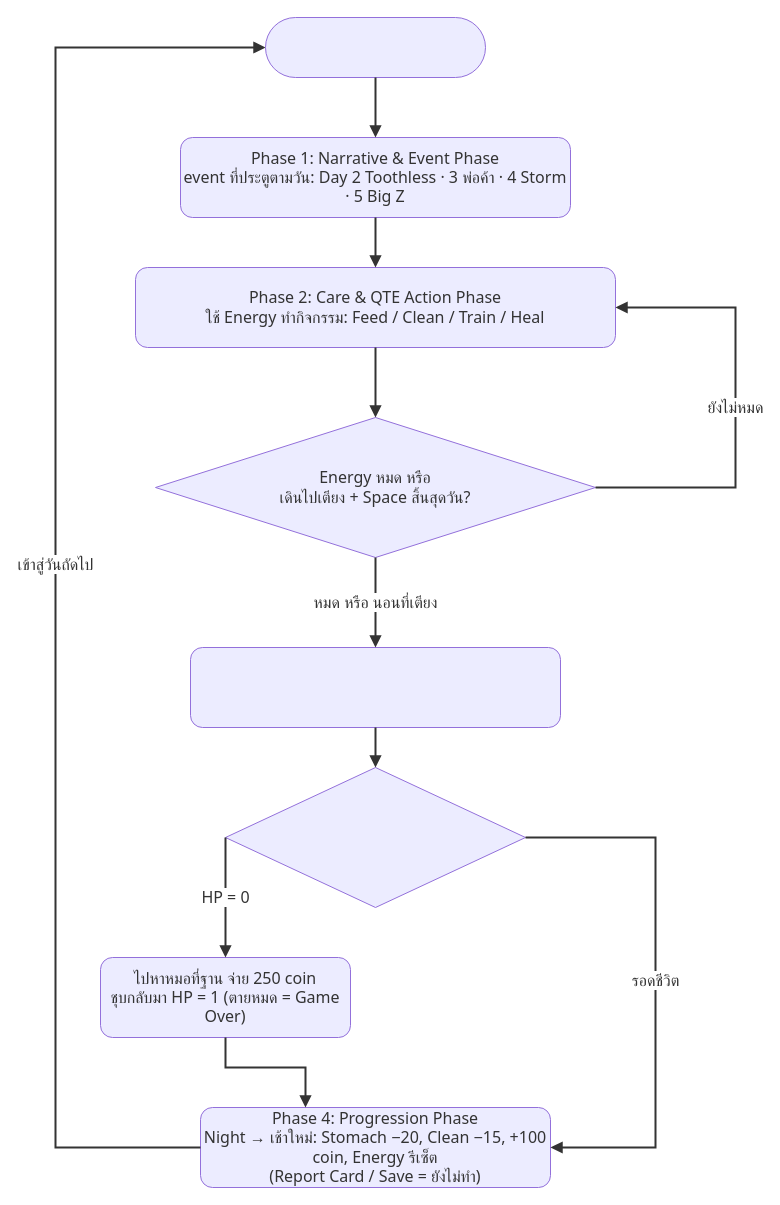
Image size: 780x1205. Some labels were removed from this diagram. The centre of each missing label's shape, as x and y in pixels:
Phase 3: Defense & Resolution Phase Fight / ตัดสินใจ / ร้านค้า ตาม event ของวัน: point 375,687
Start Day / วันใหม่: point 375,47
สัตว์เลี้ยง HP เหลือ 0 หรือไม่?: point 375,837
